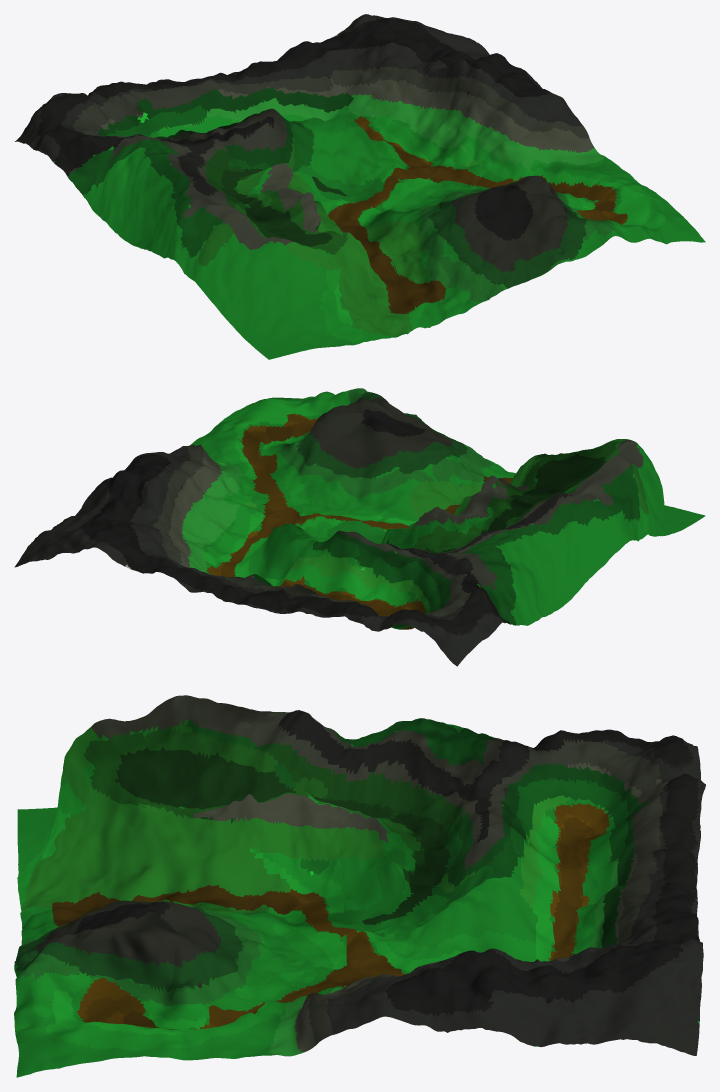
File: terrain 2.fbx
3 views of the same model, one above another, from view 1: azimuth 30°, elevation 25°; view 2: azimuth 150°, elevation 25°; view 3: azimuth 270°, elevation 25° (orthographic). The views are drawn at different scales.
Parts seen in each view (by area): view 1: polySurface16; view 2: polySurface16; view 3: polySurface16.
Part boxes in pixels (x1,y1,x2,y2): polySurface16: [15, 14, 705, 359]; polySurface16: [14, 388, 705, 666]; polySurface16: [14, 695, 705, 1077].
Size of the model in its own units: 41.21 by 9.35 by 41.3.
